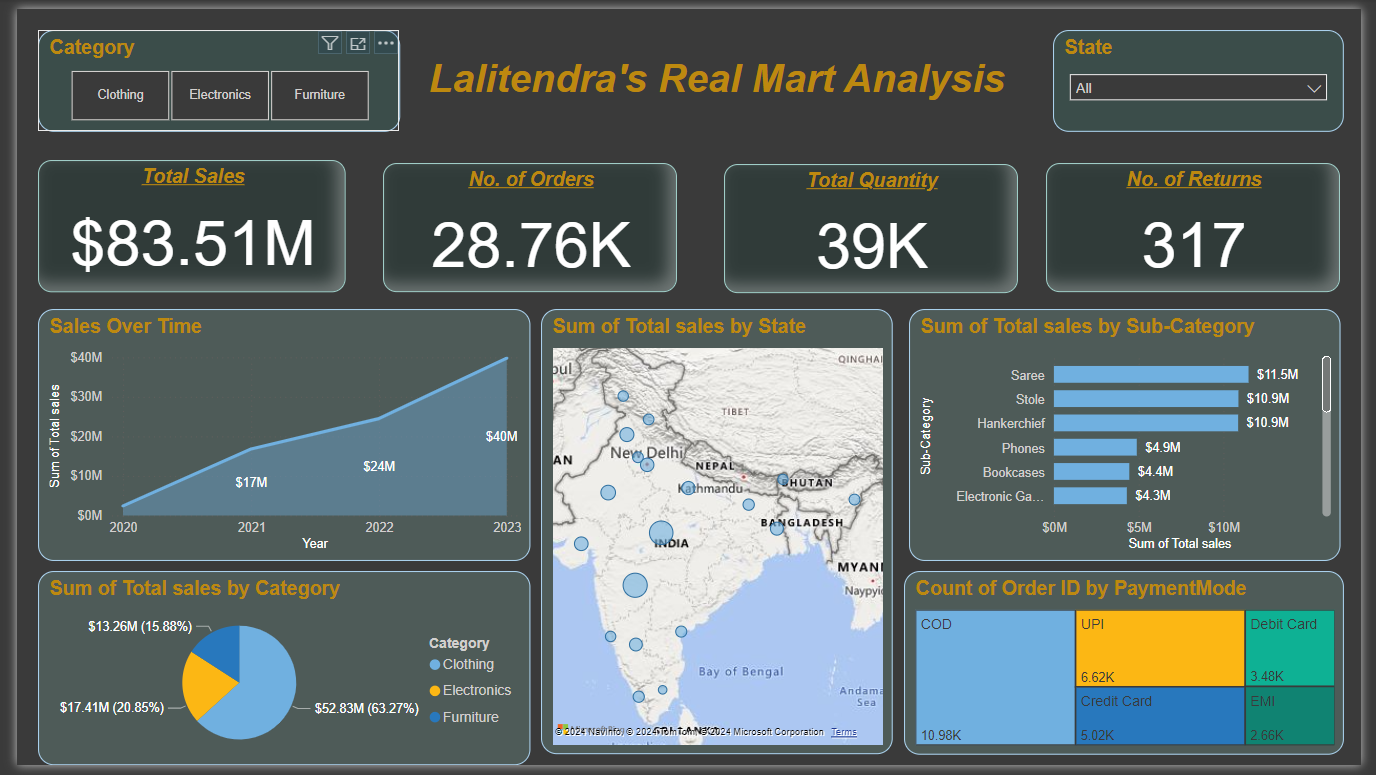

Layout of this report page (visuals, bound fields, positions):
{"tool":"powerbi","page":{"name":"Page 1","canvas":[1280,720],"ordinal":0},"visuals":[{"type":"card","title":"Total Sales","fields":{"Values":["Dataset.Total sales"]},"box":[19.6,144.2,293.4,125.9],"z":0},{"type":"card","title":"No. of Orders","fields":{"Values":["Dataset.Order ID"]},"box":[348.4,146.7,279.9,123.5],"z":1000},{"type":"card","title":"Total Quantity","fields":{"Values":["Dataset.Net quantity"]},"box":[673.5,147.9,279.9,123.5],"z":2000},{"type":"card","title":"No. of Returns","fields":{"Values":["Dataset.Returns"]},"box":[980.4,146.7,279.9,123.5],"z":3000},{"type":"stackedAreaChart","title":"Sales Over Time","fields":{"Category":["Dataset.Date.Variation.Date Hierarchy.Year","Dataset.Date.Variation.Date Hierarchy.Month"],"Y":["Dataset.Total sales"]},"box":[19.6,286,469.4,239.6],"z":4000},{"type":"pieChart","fields":{"Category":["Dataset.Category"],"Y":["Dataset.Total sales"]},"box":[19.6,535.4,469.4,184.6],"z":5000},{"type":"barChart","fields":{"Category":["Dataset.Sub-Category"],"Y":["Dataset.Total sales"]},"box":[849.6,286,410.7,239.6],"z":6000},{"type":"map","fields":{"Category":["Dataset.State"],"Size":["Dataset.Total sales"]},"box":[498.7,286,334.9,424.2],"z":8000},{"type":"treemap","fields":{"Group":["Dataset.PaymentMode"],"Values":["Dataset.Order ID"]},"box":[844.7,535.4,419.3,174.8],"z":9000},{"type":"slicer","title":"Category","fields":{"Values":["Dataset.Category"]},"box":[19.6,19.6,344.7,96.6],"z":10000},{"type":"slicer","title":"State","fields":{"Values":["Dataset.State"]},"box":[986.5,19.6,277.5,96.6],"z":11000},{"type":"textbox","box":[378.9,40.3,574.5,75.8],"z":12000}]}

Visuals, with their boxes in screenshot pixels (x1, y1, x2, y2), scaled from the page's 1280x720 canvas onto the 1376x775 screenshot:
"Total Sales" card: 21 155 336 291
"No. of Orders" card: 375 158 675 291
"Total Quantity" card: 724 159 1025 292
"No. of Returns" card: 1054 158 1355 291
"Sales Over Time" stackedAreaChart: 21 308 526 566
pieChart - Dataset.Category x Dataset.Total sales: 21 576 526 774
barChart - Dataset.Sub-Category x Dataset.Total sales: 913 308 1355 566
map - Dataset.State x Dataset.Total sales: 536 308 896 764
treemap - Dataset.PaymentMode x Dataset.Order ID: 908 576 1359 764
"Category" slicer: 21 21 392 125
"State" slicer: 1060 21 1359 125
textbox: 407 43 1025 125
